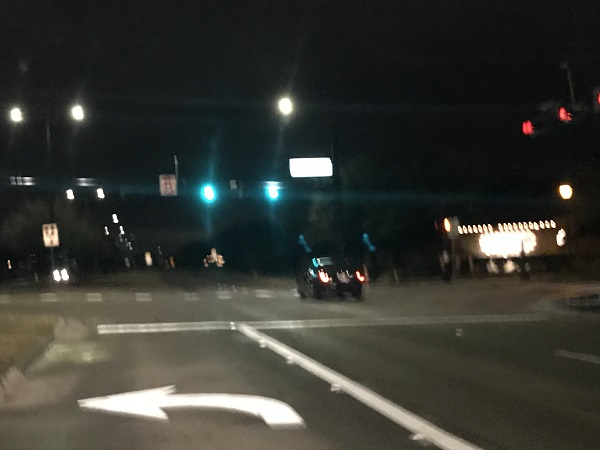car: (294, 253, 367, 303)
traffic light: (194, 175, 220, 208), (257, 178, 283, 204), (515, 114, 536, 139), (554, 102, 572, 123)
